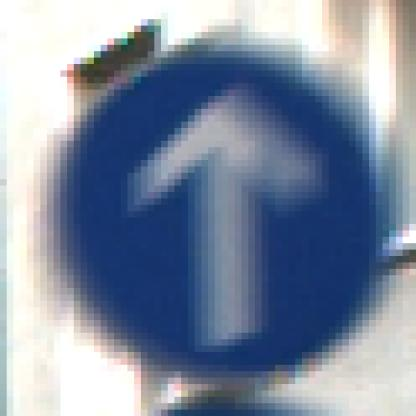AheadOnly: (42, 39, 384, 385)
